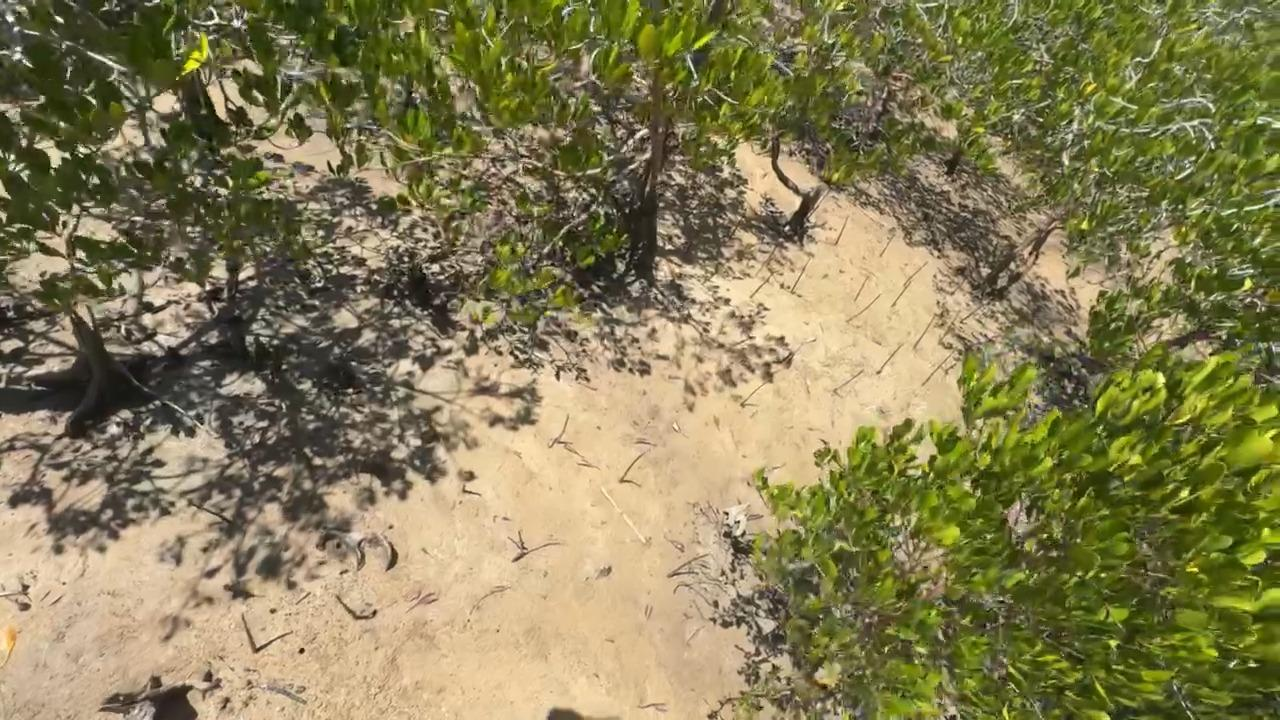Tree: (920, 347, 968, 387), (845, 292, 883, 323), (618, 448, 651, 481), (666, 553, 709, 578), (789, 254, 815, 295), (874, 343, 908, 374), (750, 269, 779, 301), (912, 314, 938, 349), (740, 378, 772, 405), (833, 369, 868, 391), (903, 261, 930, 288), (334, 593, 360, 621), (890, 278, 915, 307), (240, 611, 256, 652), (553, 410, 570, 444), (833, 214, 850, 248), (729, 207, 748, 237), (879, 233, 896, 258), (960, 304, 982, 323), (853, 275, 868, 302), (518, 530, 525, 553)
